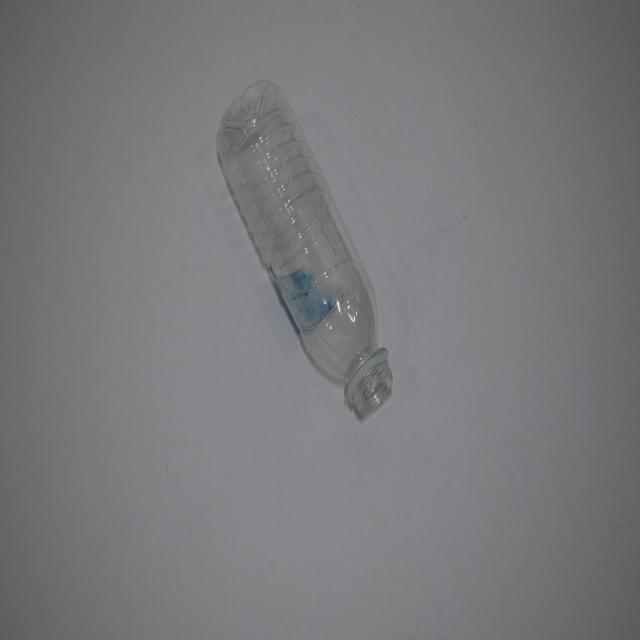bottle: (212, 74, 402, 422)
